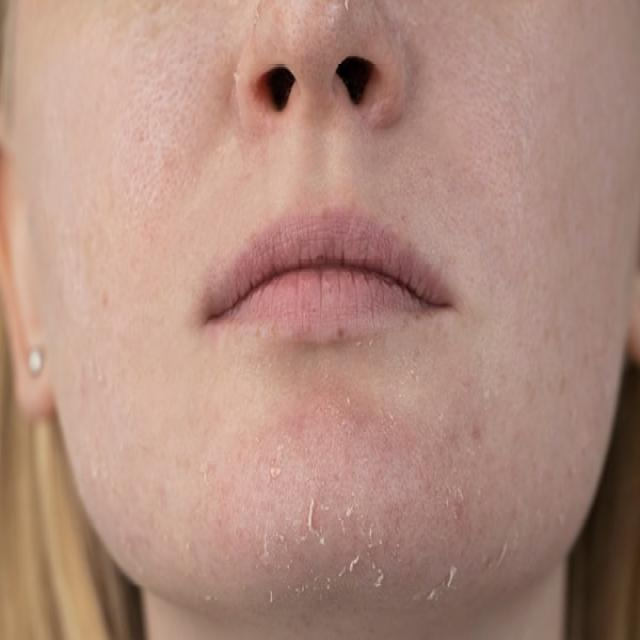dry: (180, 445, 538, 613)
